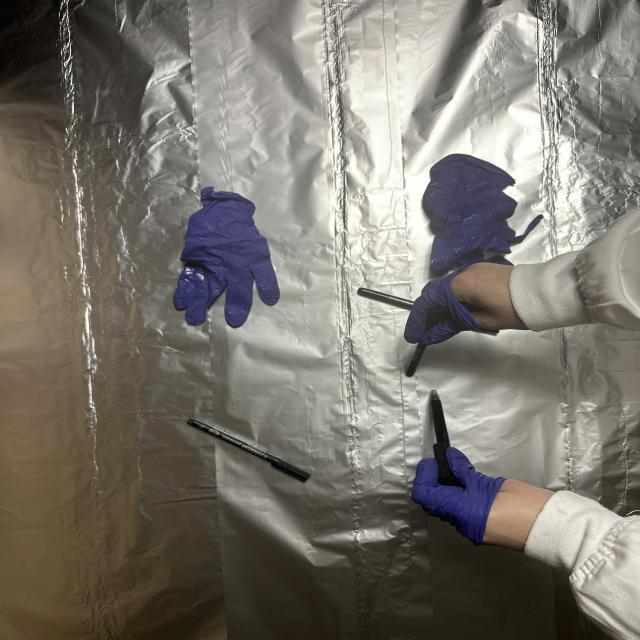glove_partial: (414, 442, 558, 551), (403, 260, 526, 344)
